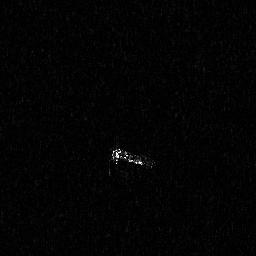ship: (108, 147, 155, 169)
